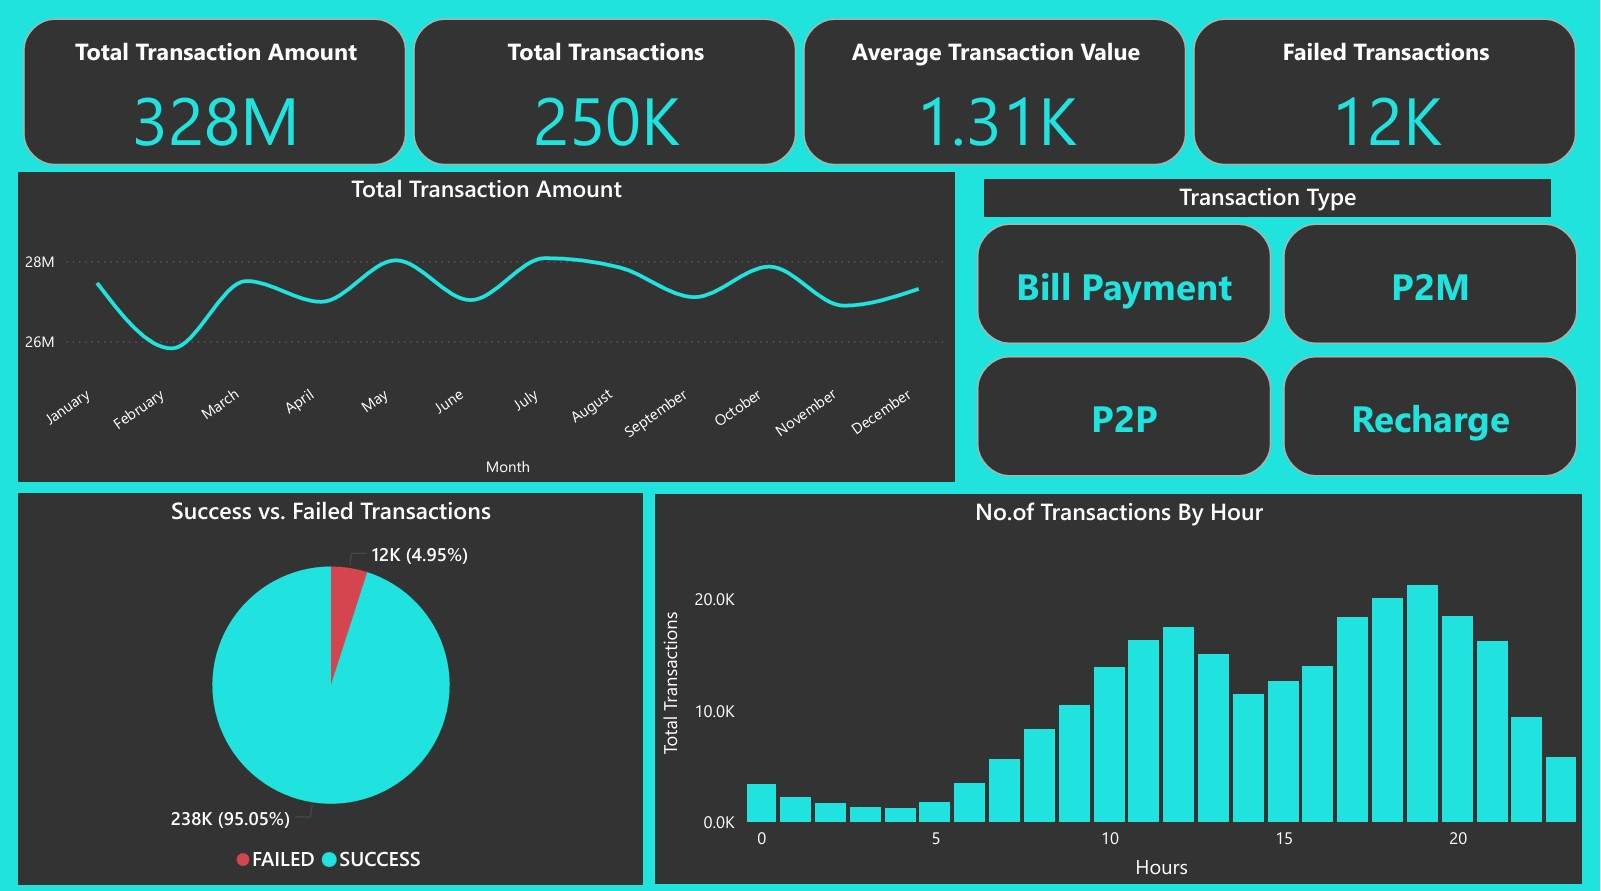

The dashboard page shown, as its layout file describes it:
{"tool":"powerbi","page":{"name":"Overall Transactions Summary","canvas":[1280,720],"ordinal":0},"visuals":[{"type":"pieChart","title":"Success vs. Failed Transactions","fields":{"Series":["upi.transaction_status"],"Y":["Measures .Total Transactions"]},"box":[13.8,395,500,312.5],"z":0},{"type":"clusteredColumnChart","title":"No.of Transactions By Hour","fields":{"Category":["upi.hour_of_day"],"Y":["Measures .Total Transactions"]},"box":[524.5,396.2,741.5,311.3],"z":1000},{"type":"cardVisual","fields":{"Data":["Measures .Total Transaction Amount","Measures .Total Transactions","Measures .Average Transaction Value","Measures .Failed Transactions"]},"box":[13.2,0,1252.8,137.7],"z":2000},{"type":"lineChart","title":"Total Transaction Amount ","fields":{"Y":["Measures .Total Transaction Amount"],"Category":["upi.transaction_date.Variation.Date Hierarchy.Year","upi.transaction_date.Variation.Date Hierarchy.Quarter","upi.transaction_date.Variation.Date Hierarchy.Month","upi.transaction_date.Variation.Date Hierarchy.Day"]},"box":[13.8,137.5,748.8,248.8],"z":3000},{"type":"advancedSlicerVisual","title":"Transaction Type","fields":{"Values":["upi.transaction_type"]},"box":[775.6,174.4,490,212.2],"z":4000},{"type":"textbox","title":"Transaction Type","box":[786.7,144.4,453.3,30],"z":5000}]}

Visuals, with their boxes in screenshot pixels (x1, y1, x2, y2), scaled from the page's 1280x720 canvas onto the 1601x891 screenshot:
"Success vs. Failed Transactions" pieChart: rect(17, 489, 643, 876)
"No.of Transactions By Hour" clusteredColumnChart: rect(656, 490, 1583, 876)
cardVisual - Measures .Total Transaction Amount x Measures .Total Transactions: rect(17, 0, 1583, 170)
"Total Transaction Amount " lineChart: rect(17, 170, 954, 478)
"Transaction Type" advancedSlicerVisual: rect(970, 216, 1583, 478)
"Transaction Type" textbox: rect(984, 179, 1551, 216)
